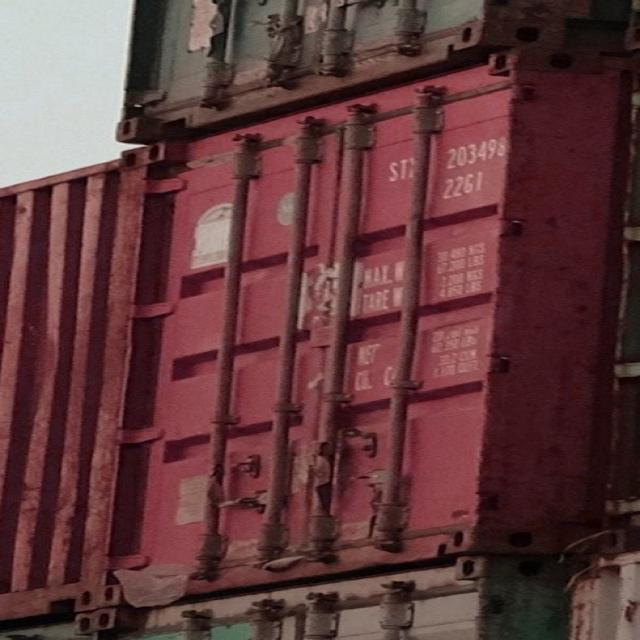ISO: (434, 172, 508, 202)
container_number: (383, 133, 519, 185)
